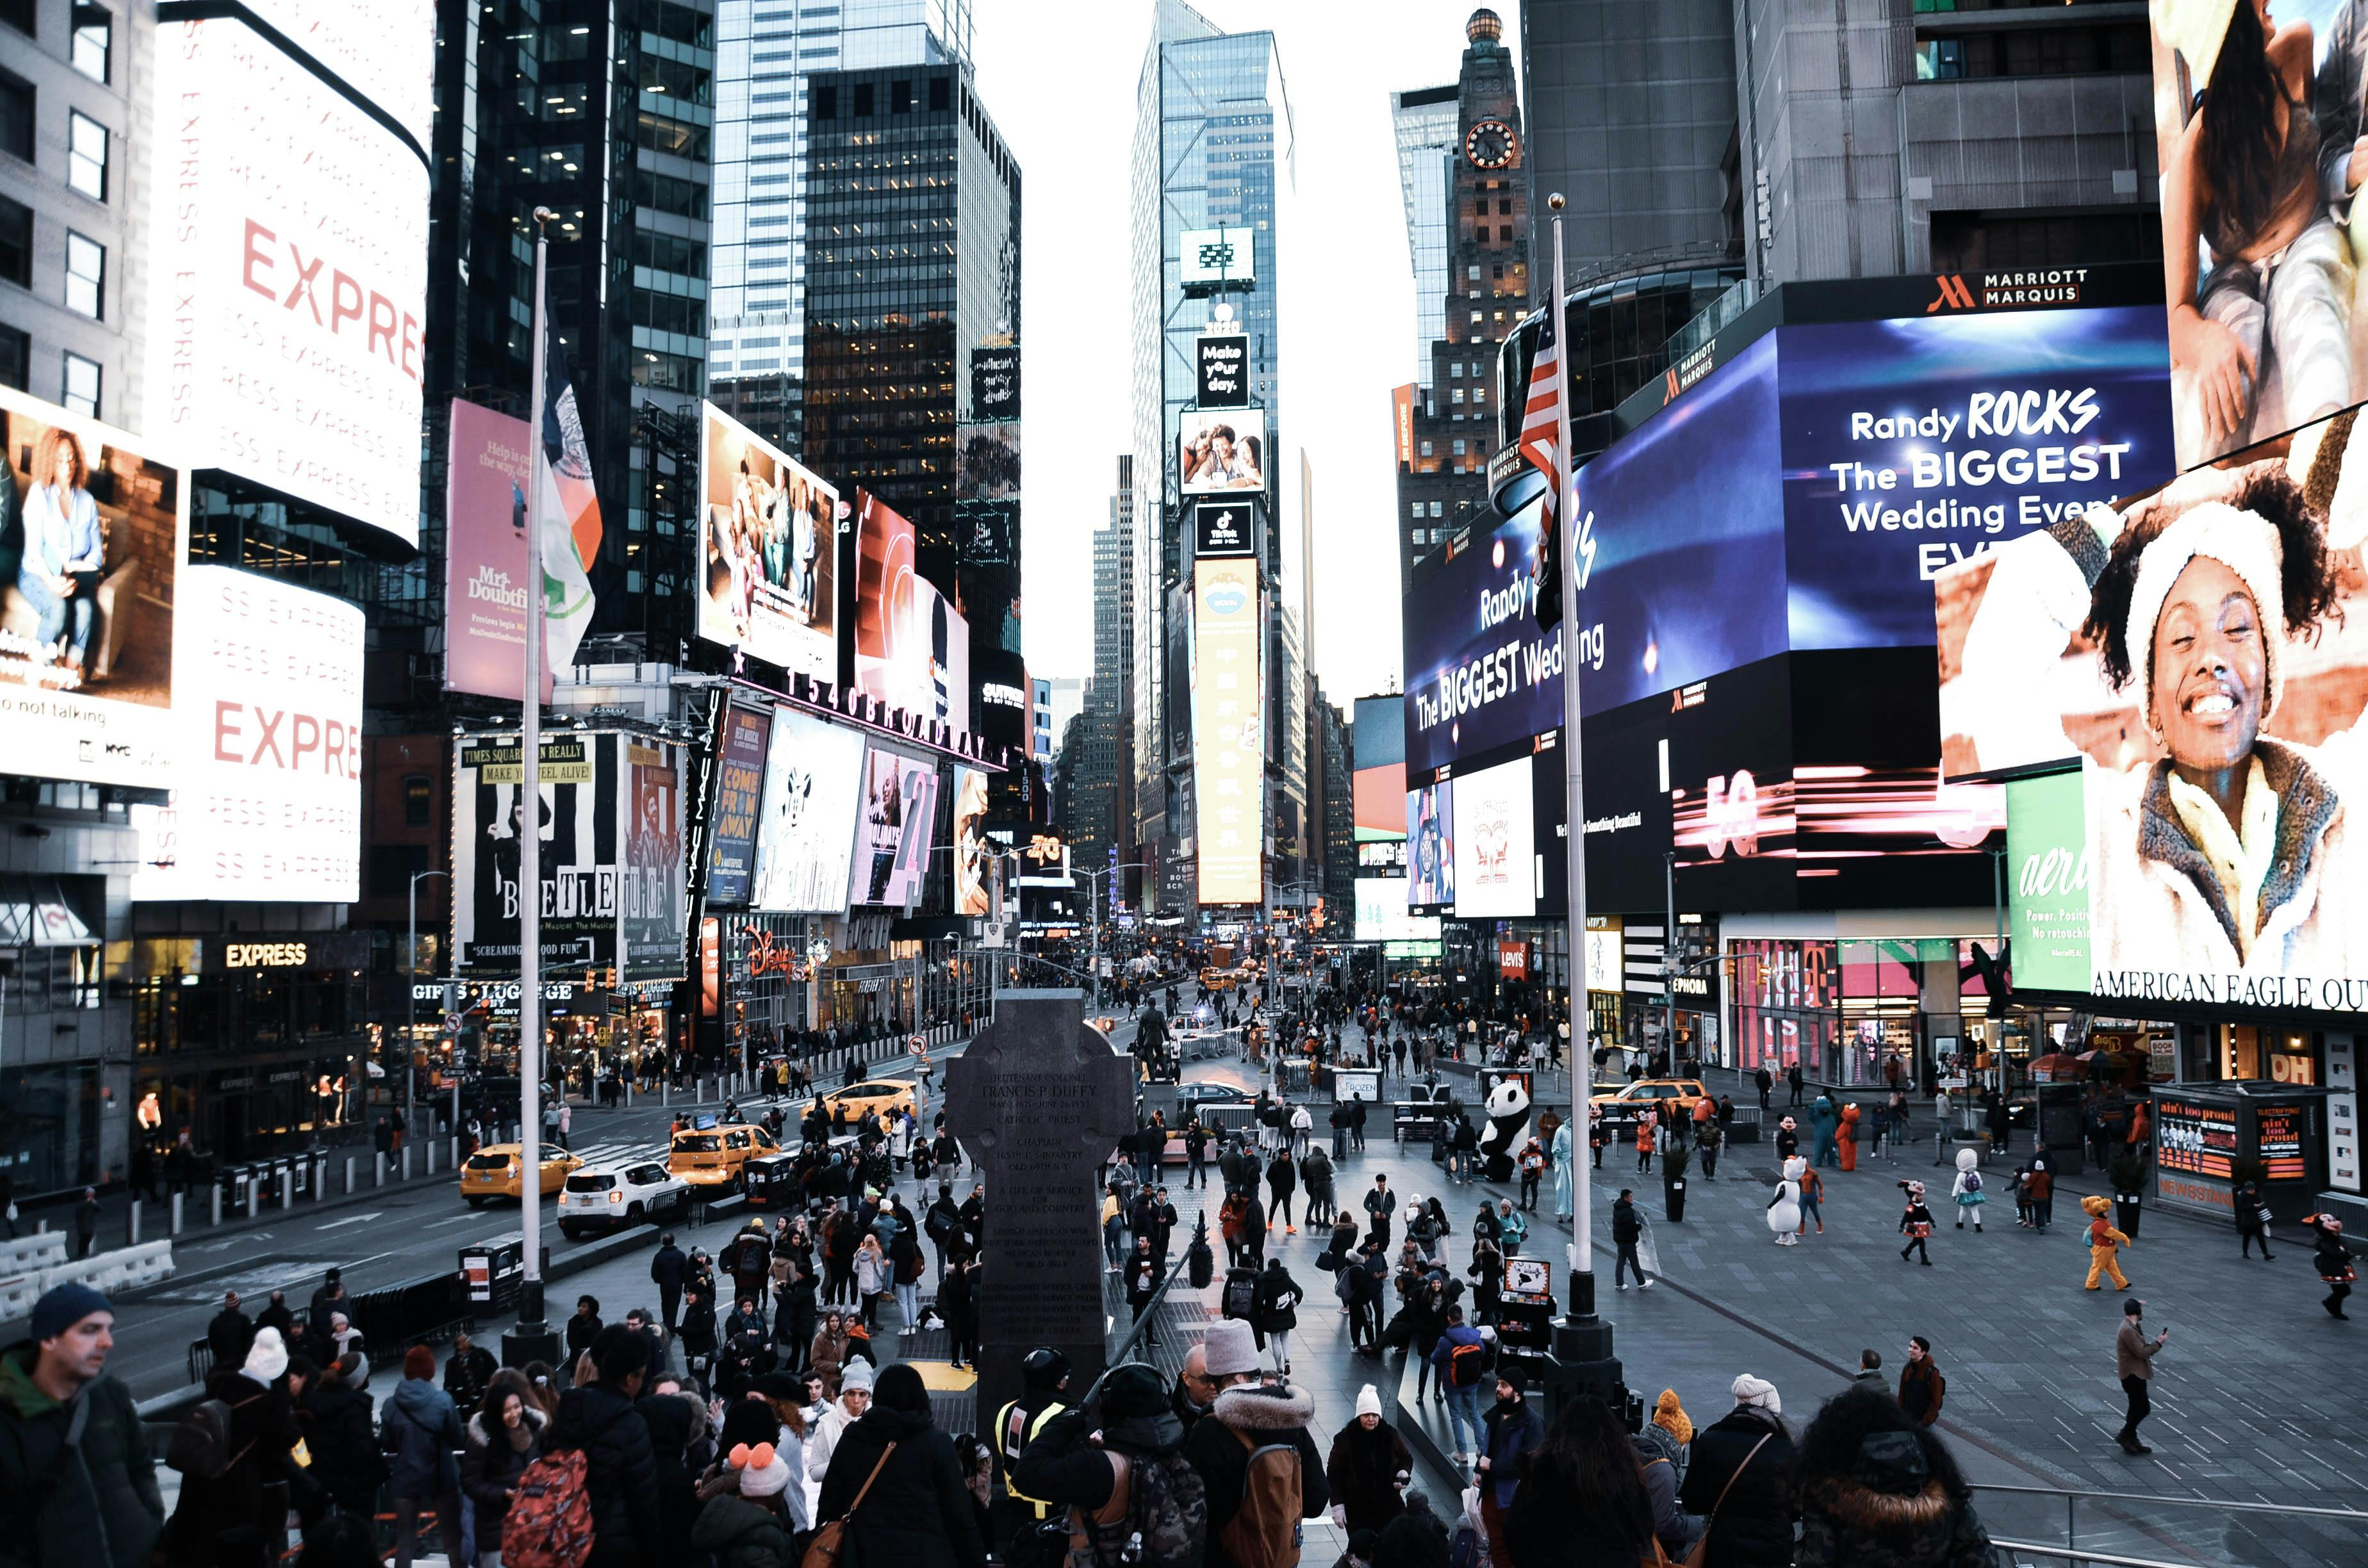Pedestrian: (0, 1283, 163, 1567), (1795, 1384, 1994, 1567), (818, 1363, 984, 1567), (168, 1328, 303, 1567), (1185, 1321, 1310, 1567), (1073, 1362, 1208, 1567), (1507, 1395, 1654, 1567), (558, 1324, 657, 1567), (1003, 1348, 1112, 1567), (1681, 1374, 1797, 1567), (299, 1353, 388, 1567), (385, 1344, 464, 1567), (691, 1399, 793, 1567), (457, 1369, 543, 1567), (1329, 1384, 1411, 1563), (802, 1352, 876, 1530), (1631, 1389, 1704, 1560), (1425, 1280, 1492, 1462), (502, 1448, 593, 1567), (1480, 1375, 1533, 1567), (892, 1192, 953, 1326), (1395, 1239, 1443, 1407), (2116, 1298, 2166, 1455), (1253, 1258, 1302, 1374), (1348, 1232, 1389, 1350), (443, 1335, 498, 1420), (2084, 1196, 2131, 1290), (821, 1210, 865, 1307), (2232, 1158, 2273, 1260), (2314, 1216, 2355, 1317), (808, 1307, 867, 1375), (1123, 1211, 1160, 1321), (1898, 1351, 1945, 1428), (771, 1217, 819, 1291), (925, 1180, 960, 1273), (853, 1232, 887, 1324), (809, 1142, 859, 1203), (725, 1295, 772, 1358), (1952, 1146, 1986, 1229), (1229, 1143, 1282, 1196), (627, 1308, 665, 1381), (1899, 1182, 1934, 1259), (1317, 1211, 1359, 1274), (1780, 1154, 1811, 1234), (1611, 1189, 1642, 1266), (1301, 1147, 1330, 1226), (1661, 1141, 1689, 1222), (1152, 1186, 1178, 1263), (1834, 1102, 1861, 1172), (1697, 1114, 1725, 1179), (2014, 1163, 2043, 1225), (1267, 1015, 1301, 1061), (1345, 1095, 1369, 1150), (1635, 1111, 1656, 1173), (1475, 1200, 1504, 1243), (1936, 1090, 1952, 1165), (1852, 1349, 1882, 1382), (1392, 1036, 1410, 1084), (1289, 1105, 1313, 1138), (577, 1294, 600, 1329), (656, 1376, 695, 1394), (1383, 1042, 1395, 1062)
Vehicle: (558, 1156, 693, 1236), (667, 1125, 781, 1201), (482, 1143, 586, 1196), (1617, 1079, 1713, 1108), (834, 1080, 912, 1102), (1190, 1004, 1213, 1030)
